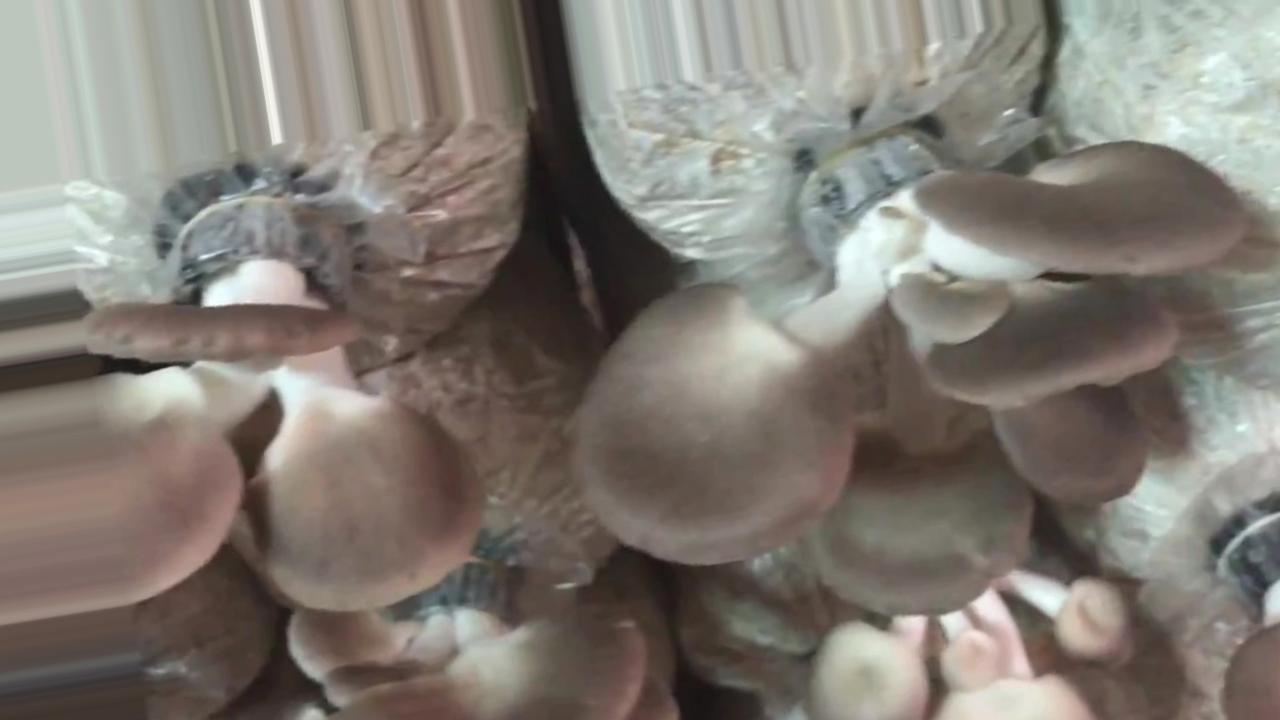nam: (571, 130, 1243, 614), (1, 206, 475, 625), (294, 566, 641, 720), (816, 568, 1138, 720)
